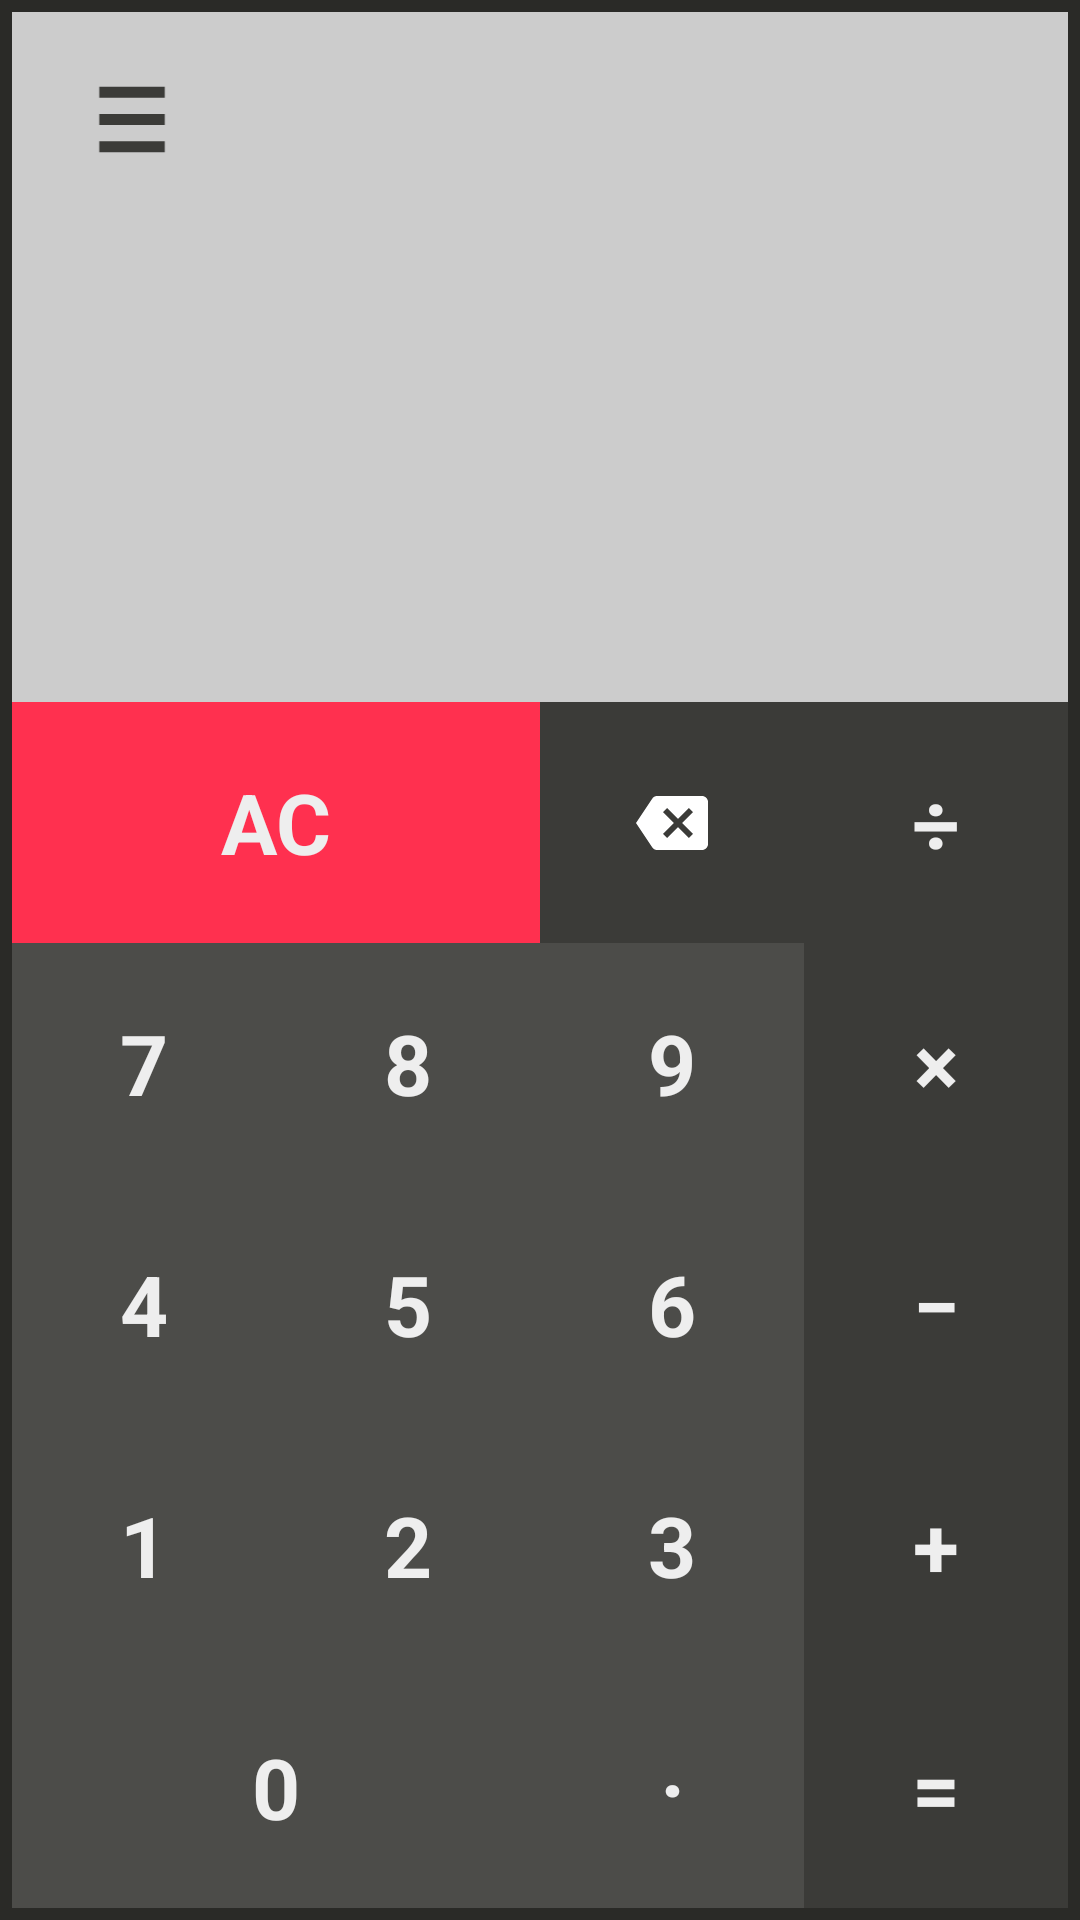

Where icons sit on this 1080w x 1920h app screen, as detection(x1, y1, x2, y2):
Menu icon: detection(99, 86, 165, 153)
